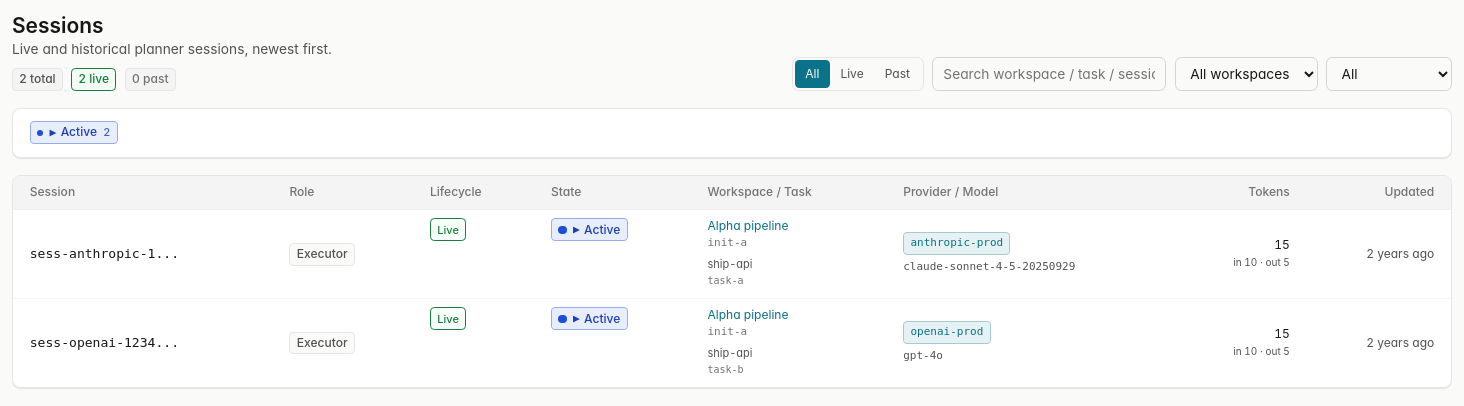
Scenario: <SessionsPage> › renders and searches provider alongside model
Check: the column heading "Provider / Model" is shown, box [886, 176, 1179, 210]
Check: the text "anthropic-prod" is shown, box [903, 232, 1010, 255]
Type "openai" into the field with placeholder "Search workspace / task / session / provider..." at (1049, 74), box [932, 57, 1166, 91]
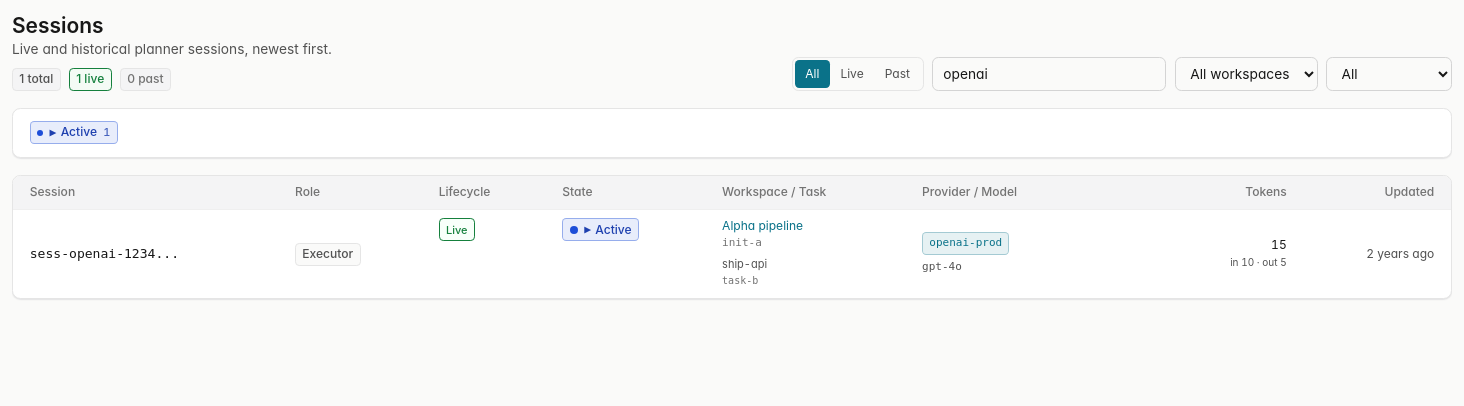
Check: the text "openai-prod" is shown, box [922, 232, 1009, 255]
Check: the text "anthropic-prod" is gone
